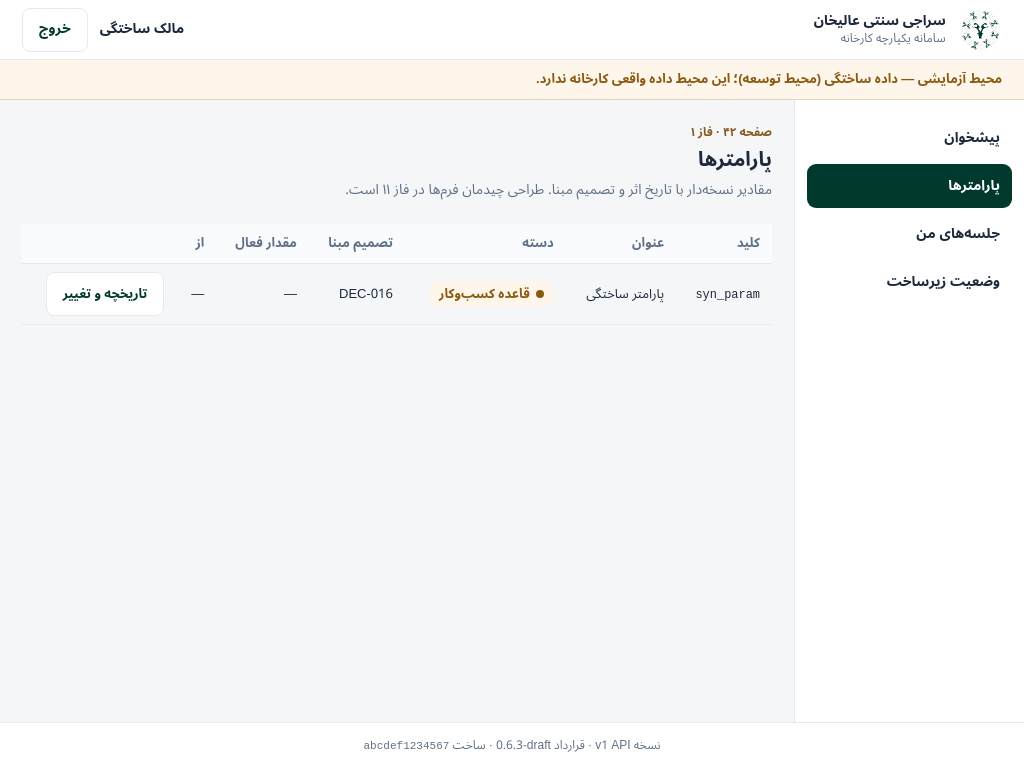
page 42: publish button follows the server rule (DEC-056 v1.2) › the owner keeps the publish button on a BUSINESS_RULE value
Click the button with test id "param-open-syn_param".
click(105, 294)  # box [46,272,164,316]
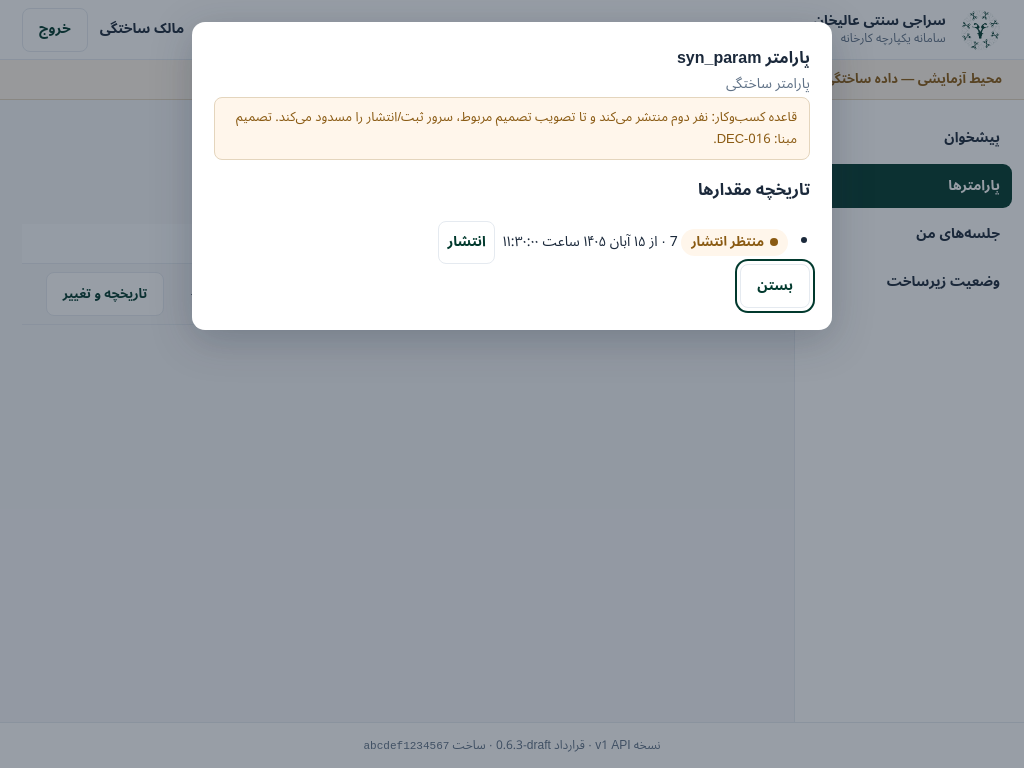
Check: the list with test id "param-values" is shown, box [438,221,788,264]
Check: the element with test id "param-class-hint" is shown, box [214,96,810,160]
Check: the button with test id "param-publish" is shown, box [438,221,495,264]
